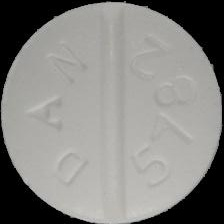0591-5782: (0, 0, 224, 224)
